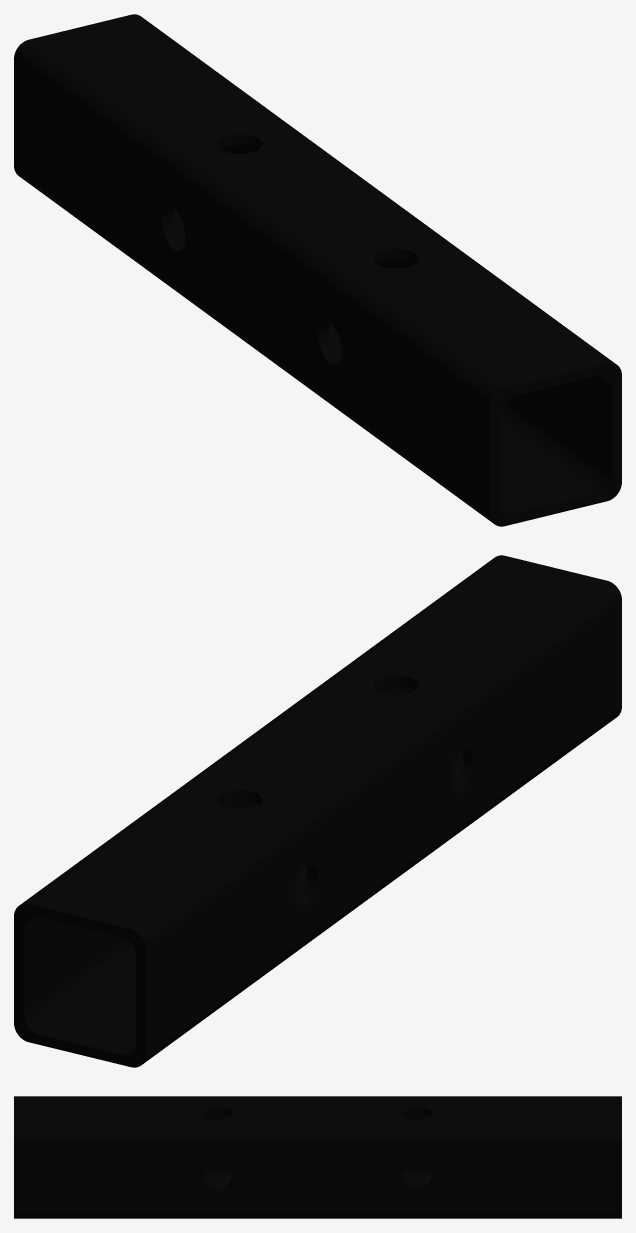
The model's file is Profile_125_UV.glb.
The picture shows the model from 3 angles, top to bottom: view 1: azimuth 30°, elevation 25°; view 2: azimuth 150°, elevation 25°; view 3: azimuth 270°, elevation 25°; orthographic projection. The views are drawn at different scales.
Parts seen in each view (by area): view 1: Profile_125; view 2: Profile_125; view 3: Profile_125.
Part boxes in pixels (left/top/right/bottom): Profile_125: left=14, top=14, right=621, bottom=526; Profile_125: left=14, top=555, right=621, bottom=1067; Profile_125: left=14, top=1096, right=621, bottom=1218.
Bounding box in the file's own units: 0.02 × 0.02 × 0.125.
Materials: 1 (1 with a texture image).
